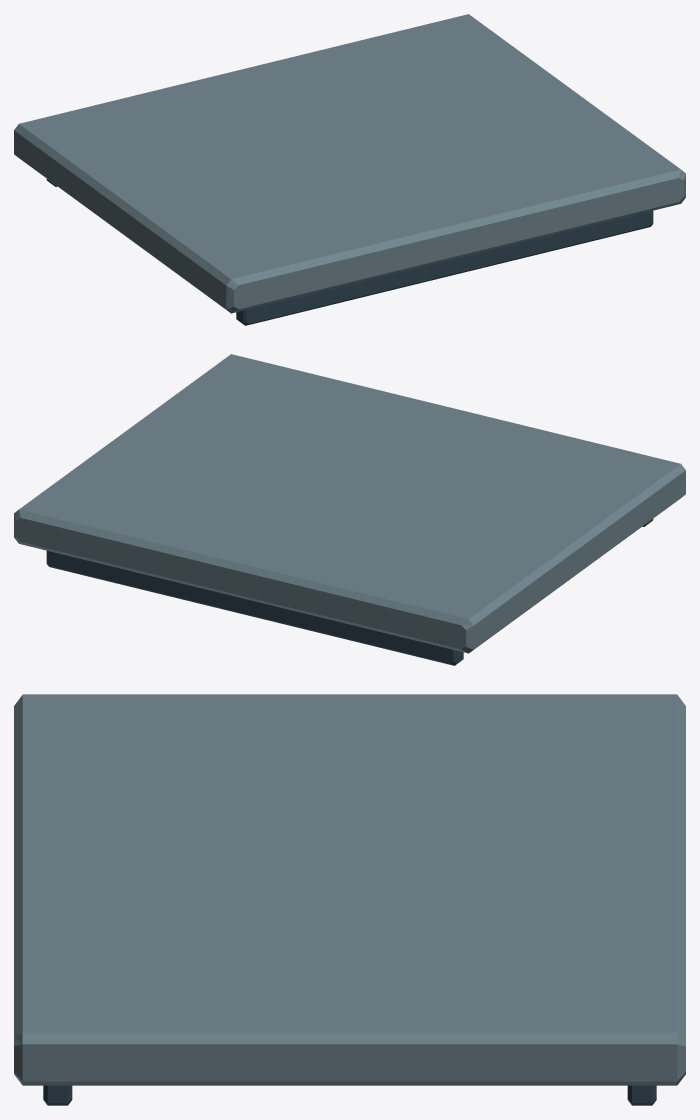
File: 05_Shelf_1m.obj
3 views of the same model, one above another, from view 1: azimuth 30°, elevation 25°; view 2: azimuth 150°, elevation 25°; view 3: azimuth 270°, elevation 25° (orthographic). The views are drawn at different scales.
Size of the model in its own units: 1.12 by 0.135 by 0.92.
